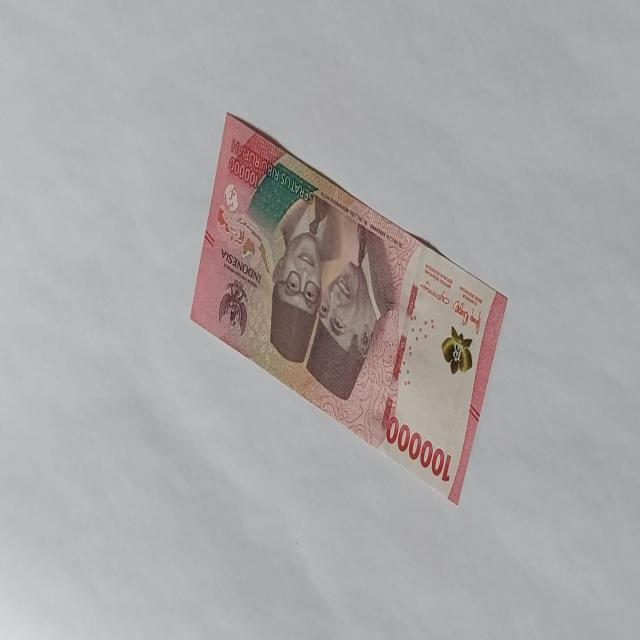seratus ribu rupiah: (189, 110, 508, 506)
